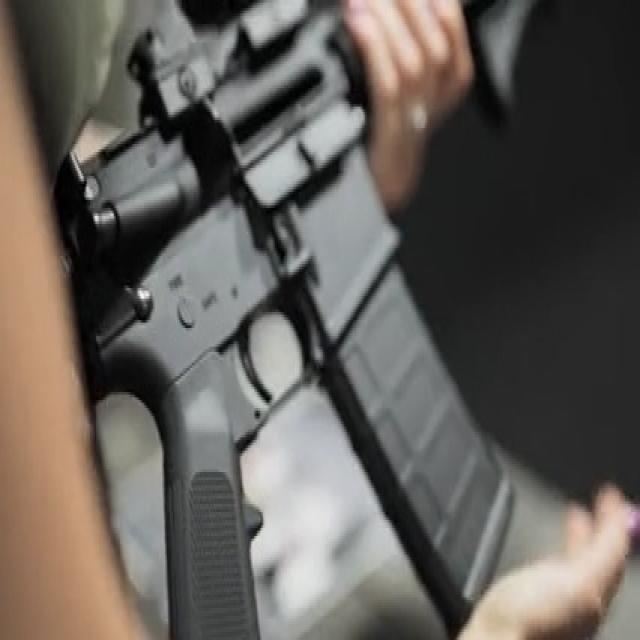Gun_Holder: (55, 16, 617, 620)
